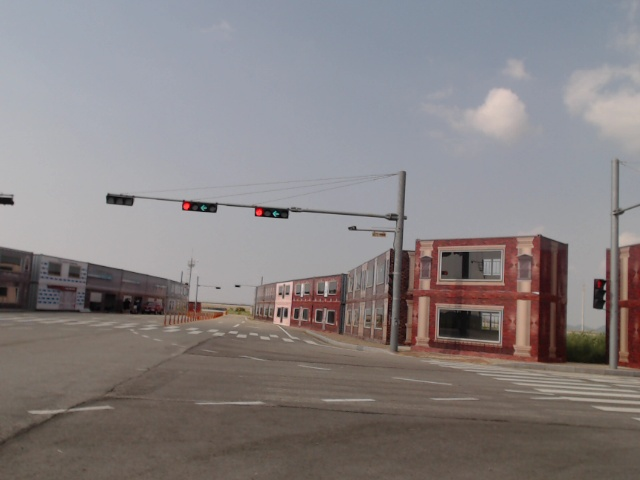left_green_4: (256, 207, 289, 218), (183, 202, 217, 212)
